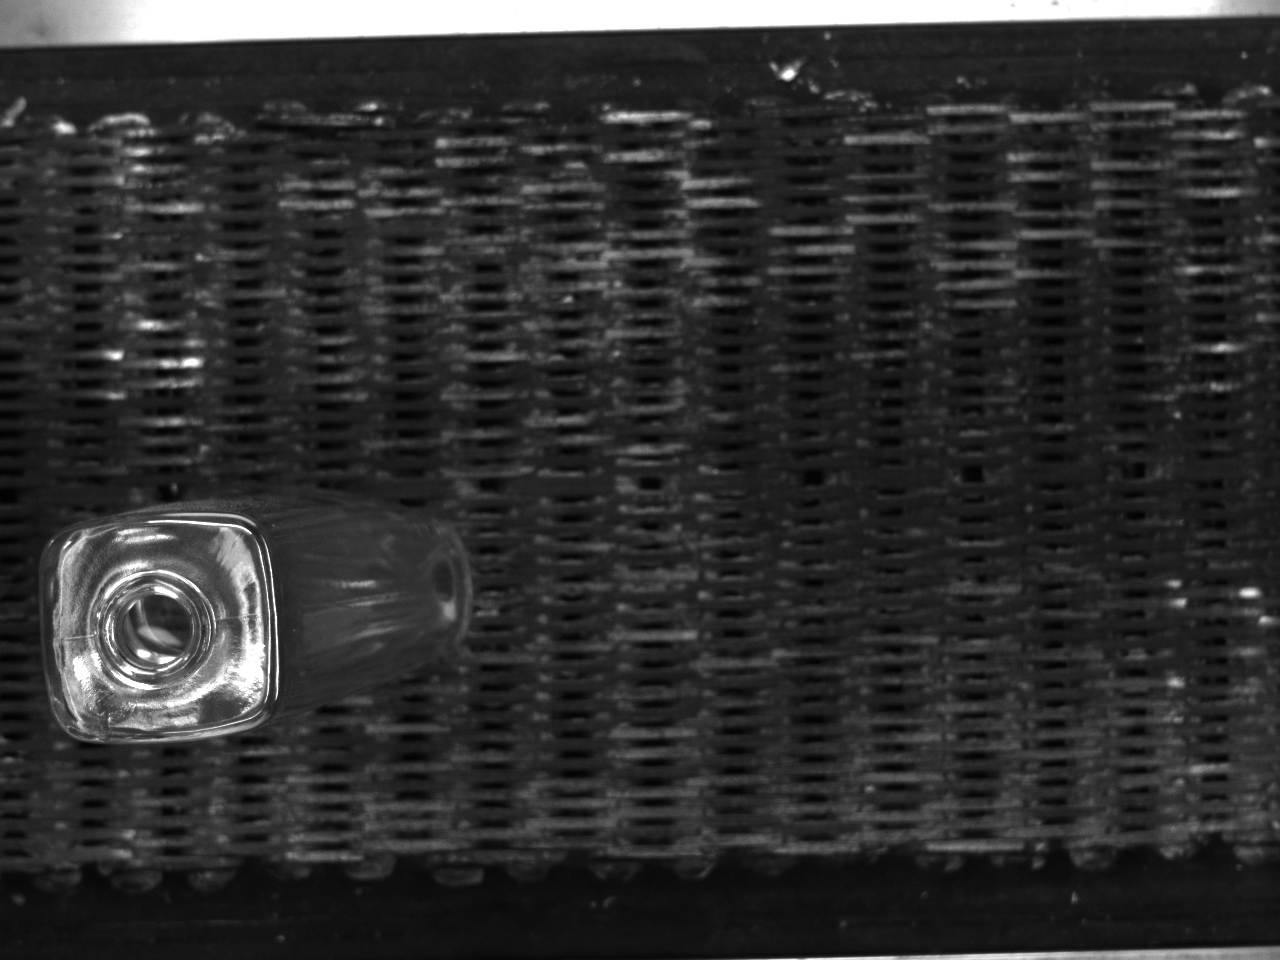bottleneck: (93, 570, 217, 687)
